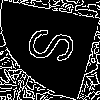S: (25, 25, 89, 69)
